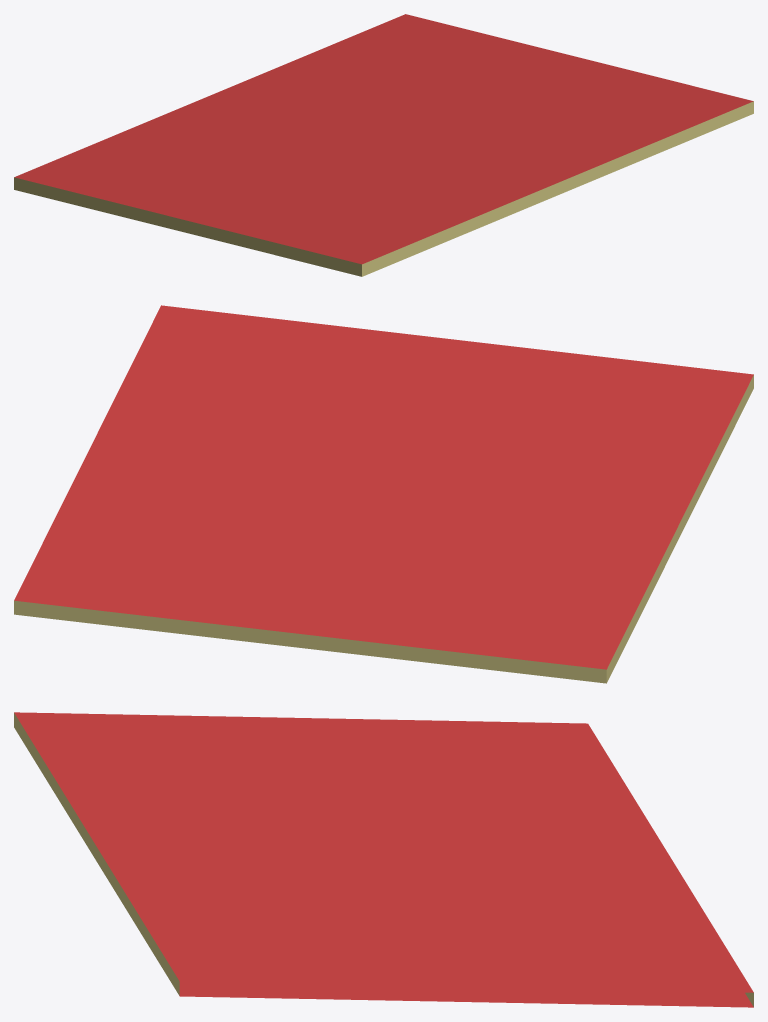
The picture shows the model from 3 angles, top to bottom: view 1: azimuth 30°, elevation 25°; view 2: azimuth 150°, elevation 25°; view 3: azimuth 270°, elevation 25°; orthographic projection. The views are drawn at different scales.
Size of the model in its own units: 4.78 by 4.49 by 0.598.
